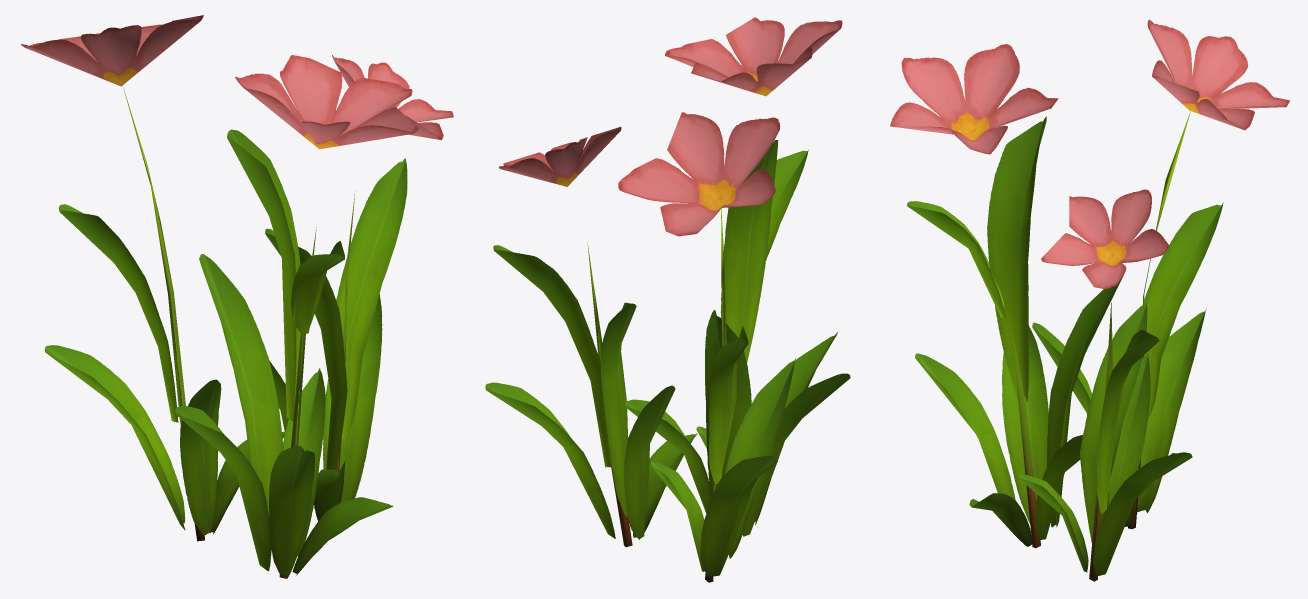
Rendered from flowers-1.glb.
3 renders of one model, left to right at view 1: azimuth 30°, elevation 25°; view 2: azimuth 150°, elevation 25°; view 3: azimuth 270°, elevation 25°, orthographic. The views are drawn at different scales.
Parts seen in each view (by area): view 1: Flower_3_Group; view 2: Flower_3_Group; view 3: Flower_3_Group.
Part boxes in pixels (left/top/right/bottom): Flower_3_Group: left=21, top=15, right=453, bottom=578; Flower_3_Group: left=485, top=17, right=850, bottom=582; Flower_3_Group: left=890, top=19, right=1289, bottom=581.
Bounding box in the file's own units: 1.49 × 2.05 × 1.59.
2 materials, 2 textured.
